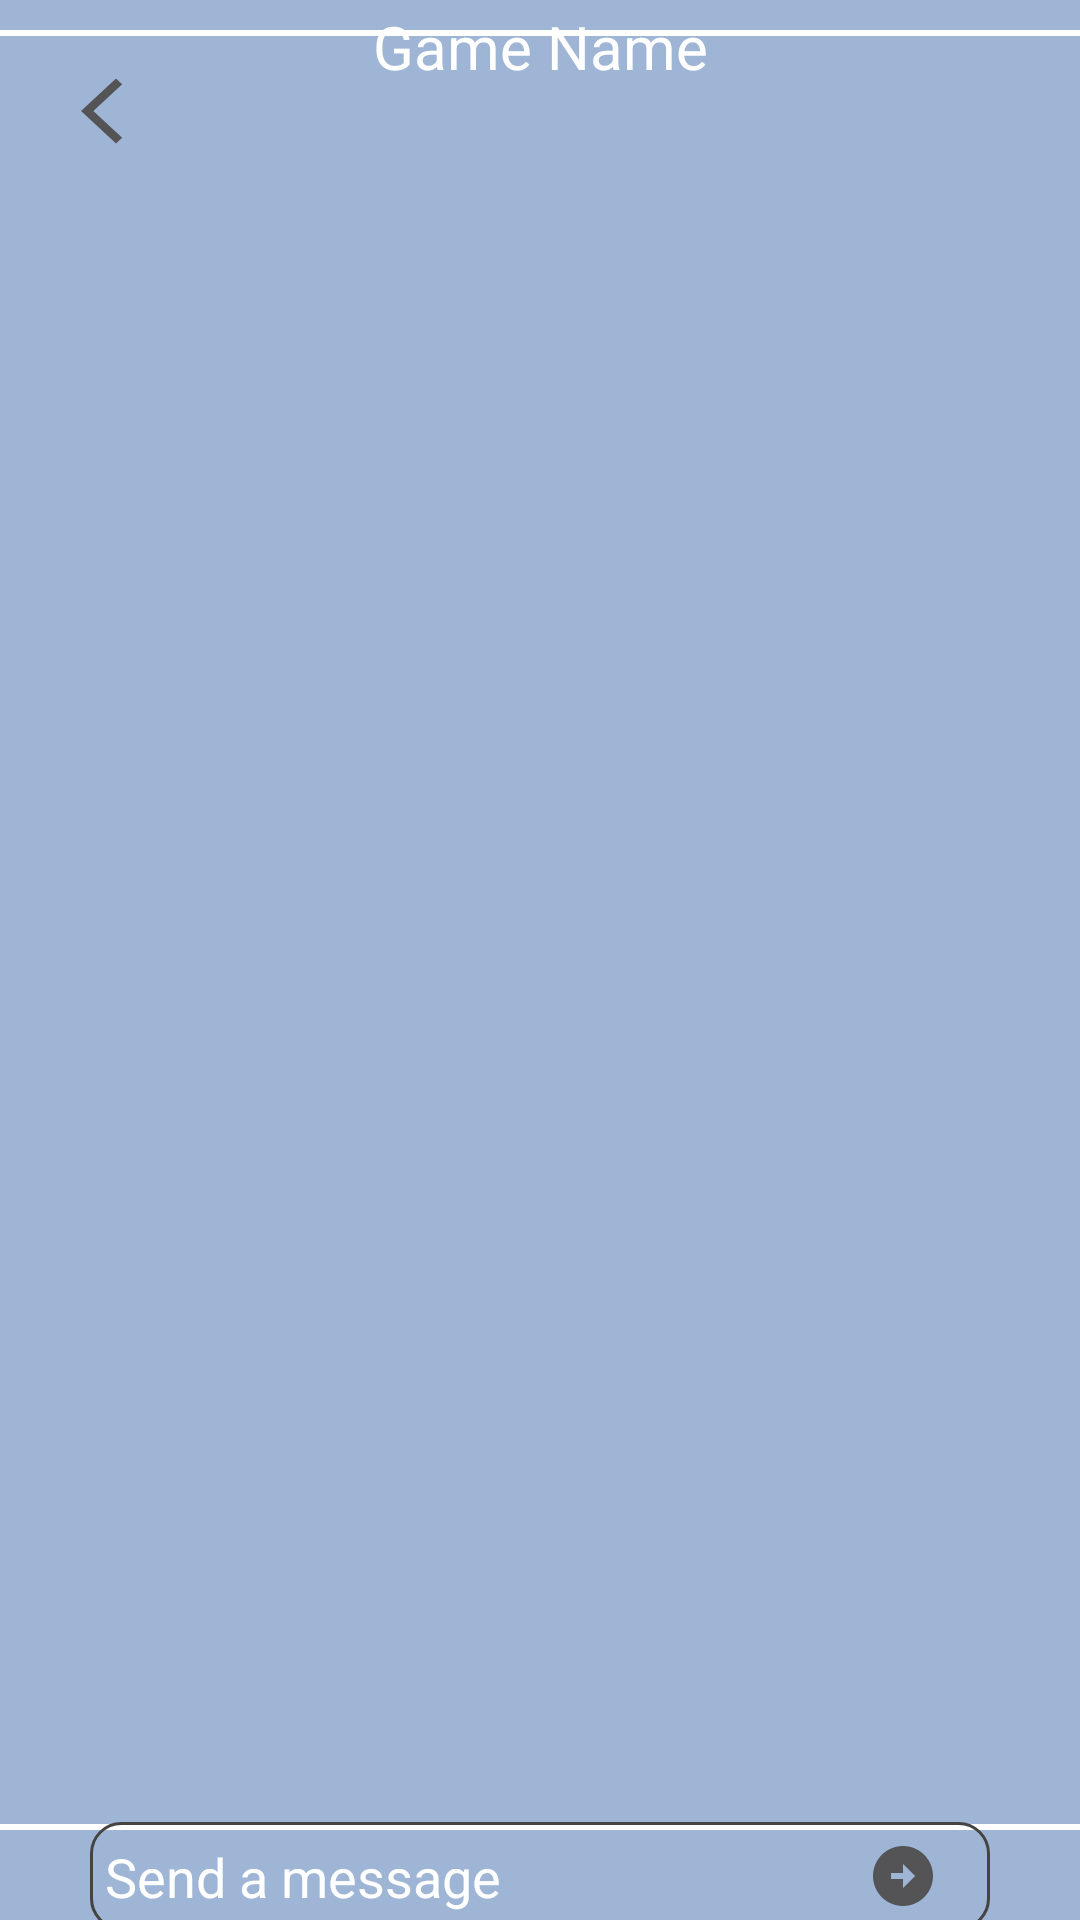

Screen size 1080*1920. Icon name, then its center in pixels as point (x, y):
arrow back: point (101, 111)
arrow circle right: point (903, 1876)
